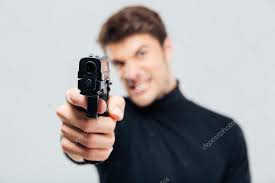gun: (64, 54, 118, 163)
